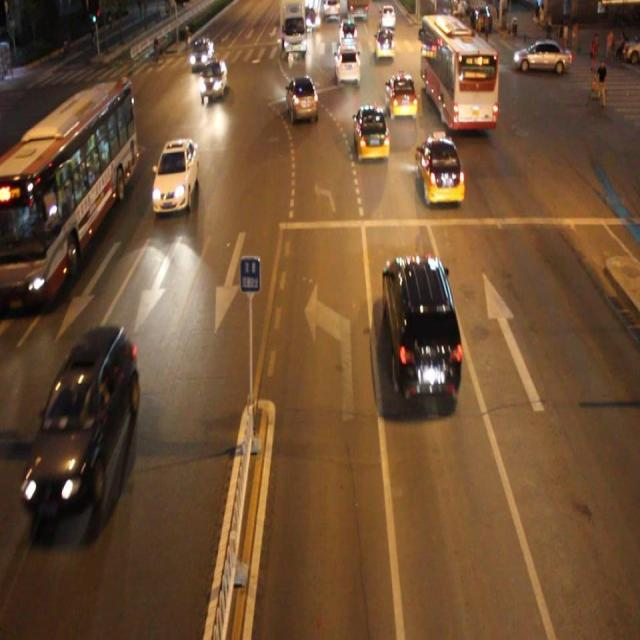car: (25, 324, 136, 517), (383, 251, 461, 400), (151, 137, 200, 213), (416, 132, 463, 205), (354, 102, 389, 162), (286, 75, 318, 124), (387, 73, 417, 119), (333, 43, 361, 84), (200, 59, 227, 101)
van: (0, 83, 134, 302), (421, 15, 496, 131)
